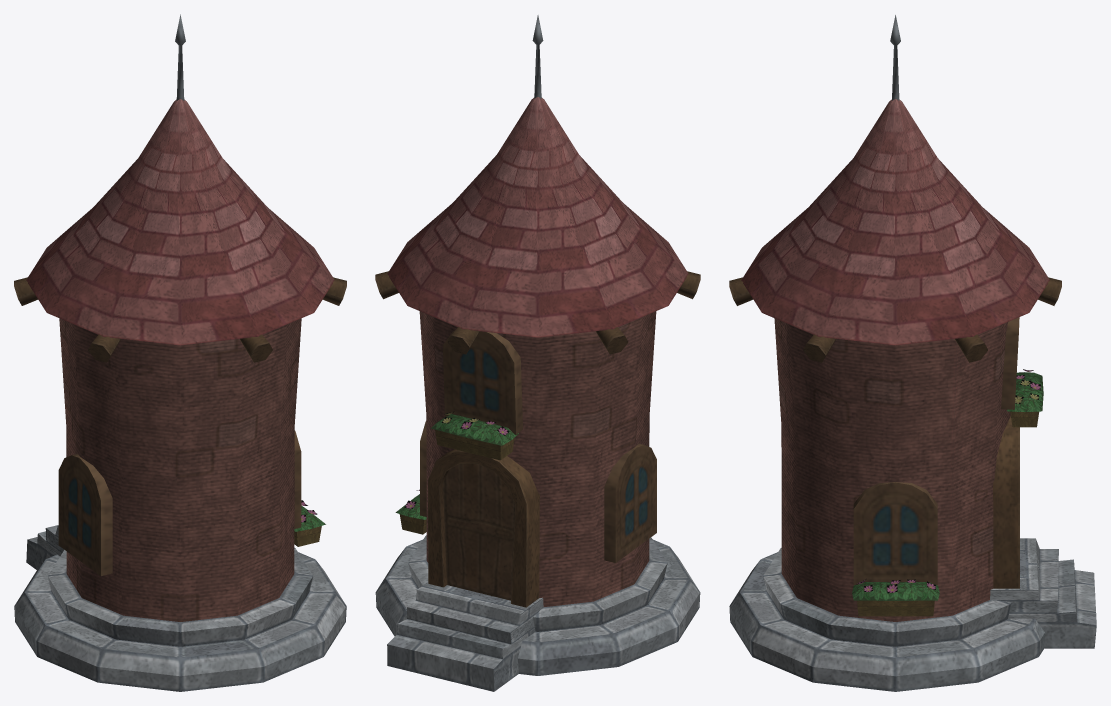
The model's file is HOS0110027.fbx.
3 renders of one model, left to right at view 1: azimuth 30°, elevation 25°; view 2: azimuth 150°, elevation 25°; view 3: azimuth 270°, elevation 25°, orthographic. The views are drawn at different scales.
Visible parts, largest first — view 1: smHOS0110027; view 2: smHOS0110027; view 3: smHOS0110027.
Boxes of the visible parts, box(x1,y1,x2,y2) form: smHOS0110027: box(14, 14, 346, 691); smHOS0110027: box(375, 15, 700, 691); smHOS0110027: box(729, 15, 1096, 691).
Size of the model in its own units: 394 by 795 by 436.
1 material, 1 textured.
